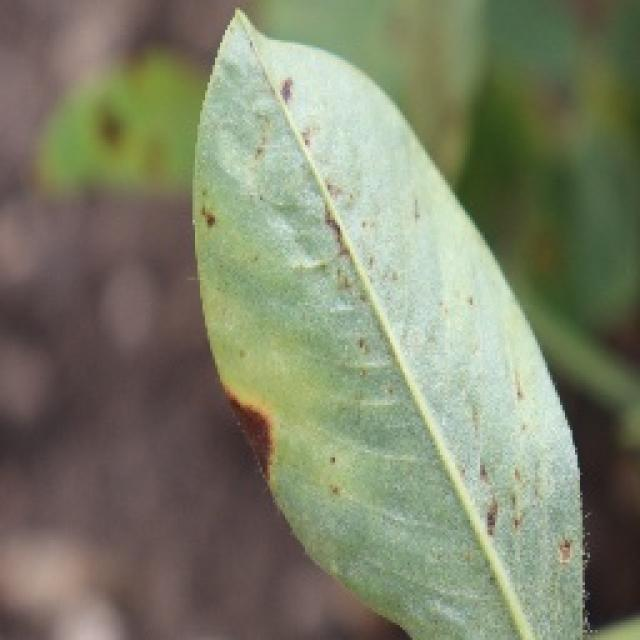Early_leaf_spot: (172, 335, 302, 503), (292, 180, 372, 297), (258, 52, 322, 168), (450, 442, 510, 556), (173, 185, 240, 256), (544, 532, 612, 598)
